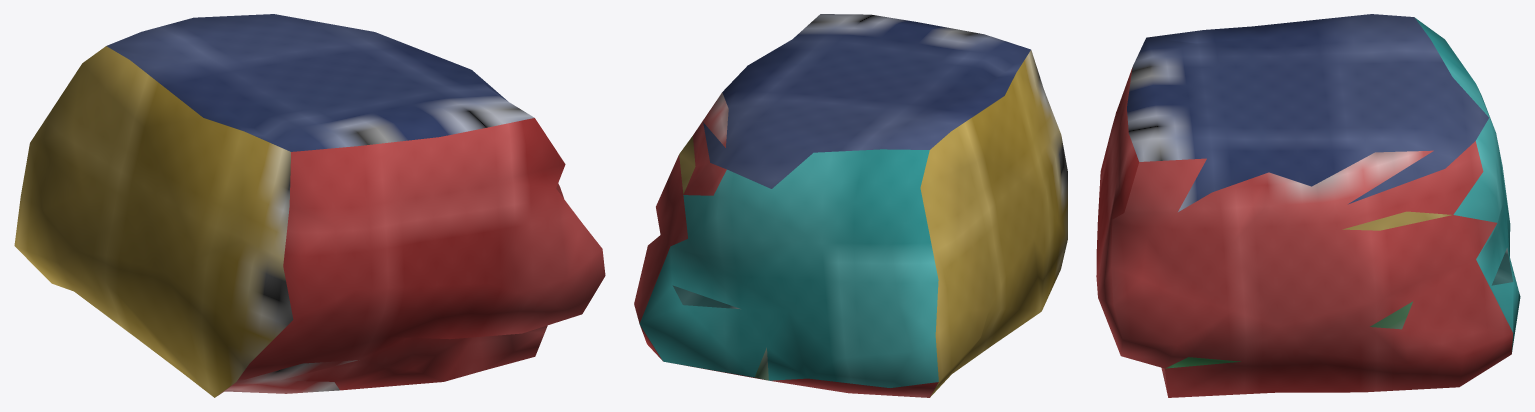
File: rocks_test2.dae
3 views of the same model, side by side, from view 1: azimuth 30°, elevation 25°; view 2: azimuth 150°, elevation 25°; view 3: azimuth 270°, elevation 25° (orthographic). The views are drawn at different scales.
Parts seen in each view (by area): view 1: s_rocks_desert_small_01_low; view 2: s_rocks_desert_small_01_low; view 3: s_rocks_desert_small_01_low.
Boxes of the visible parts, x1,y1,x2,y2 form: s_rocks_desert_small_01_low: [14, 14, 605, 397]; s_rocks_desert_small_01_low: [634, 14, 1067, 397]; s_rocks_desert_small_01_low: [1096, 14, 1520, 397].
Bounding box in the file's own units: 0.9563 × 1 × 0.6724.
1 material, 1 textured.
